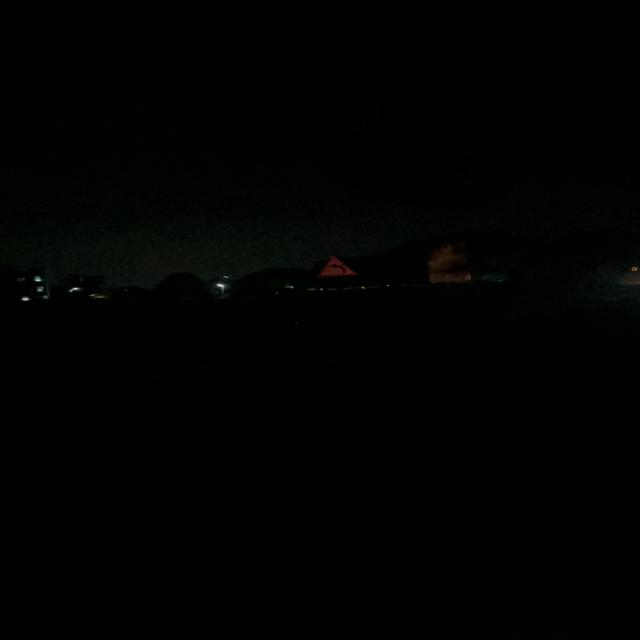left_hand_curve: (312, 255, 363, 284)
